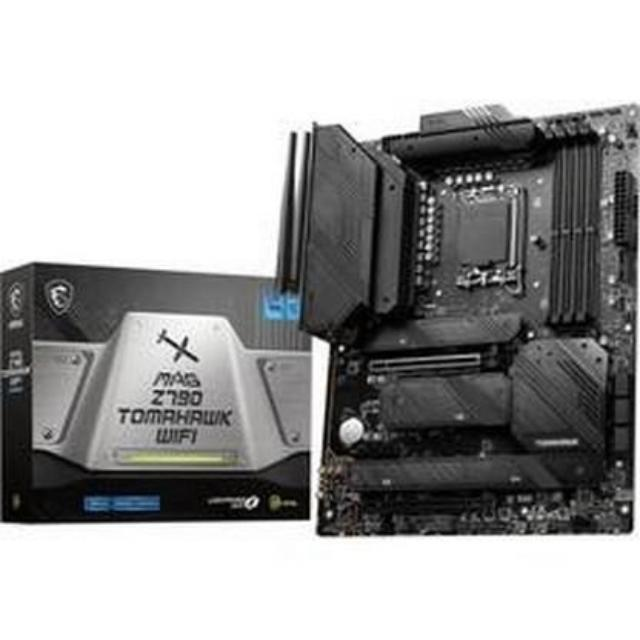Mainboard: (292, 104, 640, 546)
